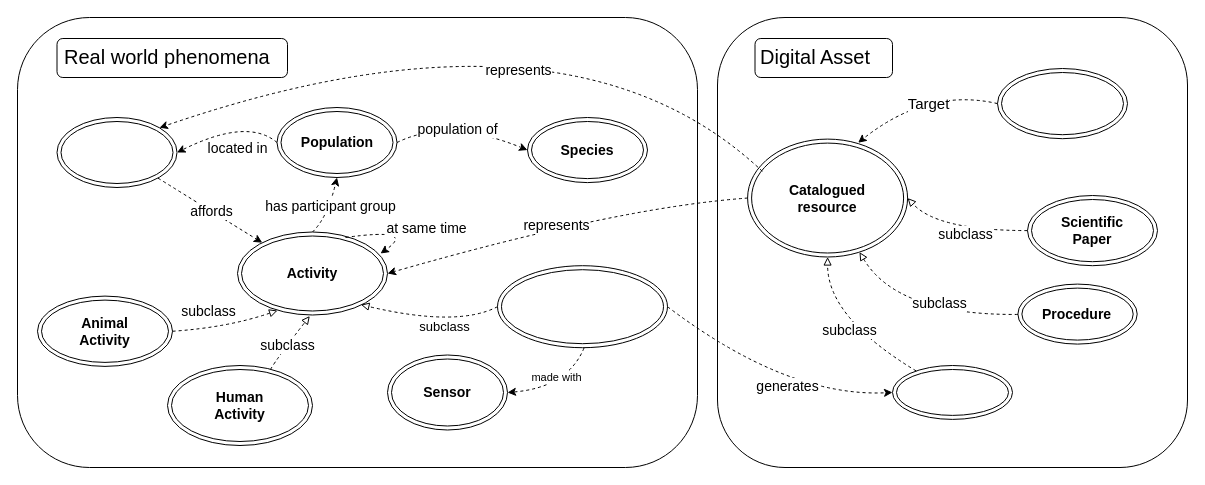
This 1205x485 diagram has some shape labels left out. The centre of each missing label's shape, as x and y in pixels:
"Dataset" goes at pixel 952 391.
"LandEntity" goes at pixel 116 152.
"Observation Or SurveyProcess" goes at pixel 582 306.
"User Feedback" goes at pixel 1062 103.
